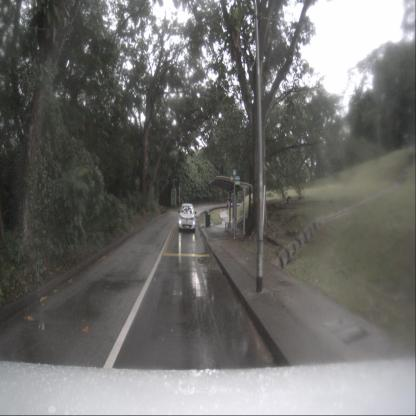human-pedestrian-adult: (227, 198, 229, 211)
vehicle-car: (178, 204, 195, 233)
